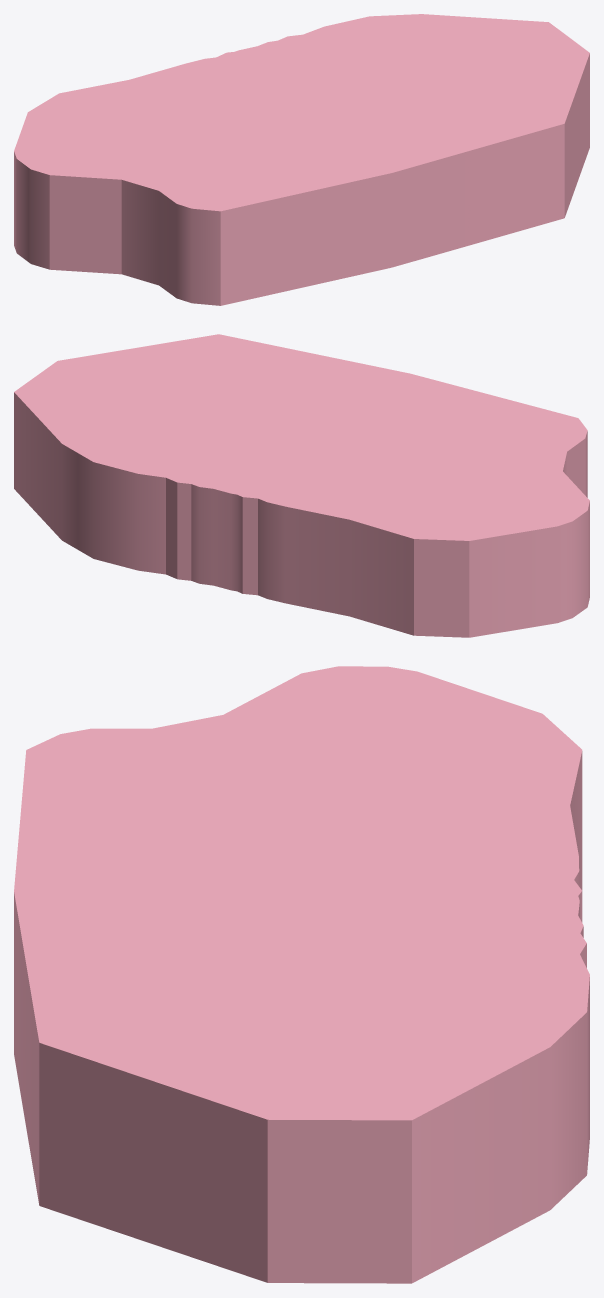
The model's file is mdl_lastMapArea.fbx.
3 views of the same model, one above another, from view 1: azimuth 30°, elevation 25°; view 2: azimuth 150°, elevation 25°; view 3: azimuth 270°, elevation 25° (orthographic). The views are drawn at different scales.
Parts seen in each view (by area): view 1: mdl_lastMapArea; view 2: mdl_lastMapArea; view 3: mdl_lastMapArea.
Boxes of the visible parts, box(x1,y1,x2,y2) form: mdl_lastMapArea: box(14, 14, 589, 305); mdl_lastMapArea: box(14, 334, 589, 637); mdl_lastMapArea: box(14, 666, 589, 1283).
Bounding box in the file's own units: 149 × 25 × 79.97.
